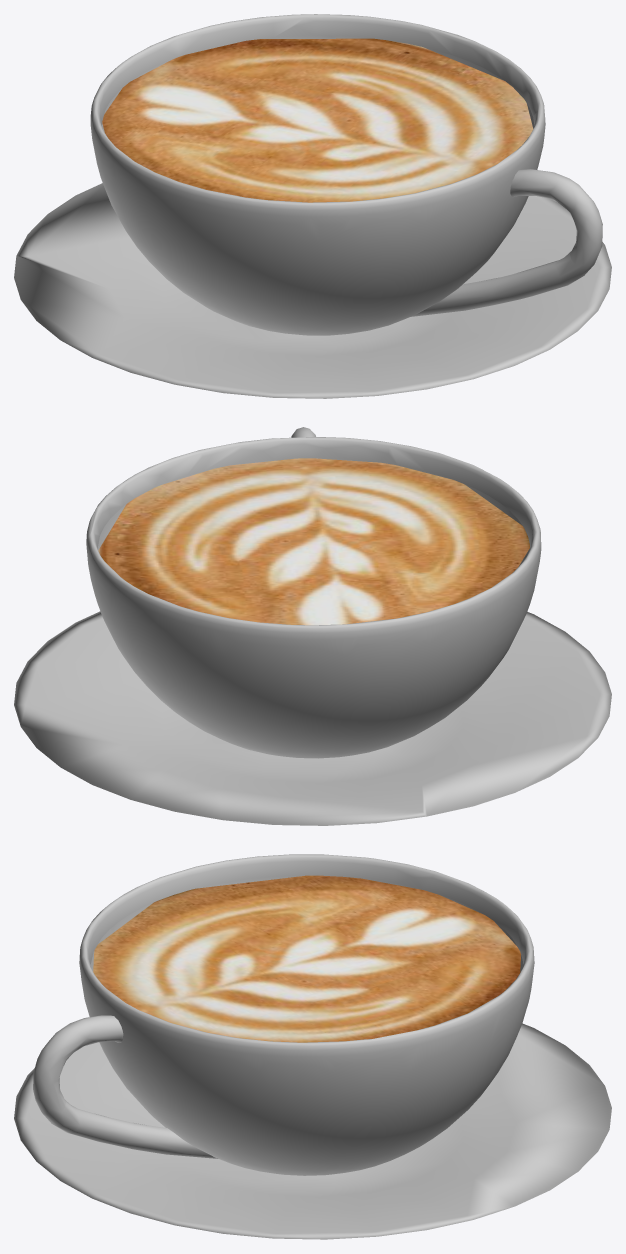
File: food_coffee.glb
3 renders of one model, top to bottom at view 1: azimuth 30°, elevation 25°; view 2: azimuth 150°, elevation 25°; view 3: azimuth 270°, elevation 25°, orthographic.
Visible parts, largest first — view 1: Sphere001, Object001_Material #26_0, Cylinder001, Line001; view 2: Cylinder001, Sphere001, Object001_Material #26_0; view 3: Sphere001, Object001_Material #26_0, Cylinder001, Line001.
Part boxes in pixels (x1,y1,x2,y2): Sphere001: [90, 14, 545, 335]; Object001_Material #26_0: [102, 38, 533, 202]; Cylinder001: [14, 183, 611, 398]; Line001: [411, 169, 602, 316]; Cylinder001: [14, 611, 611, 825]; Sphere001: [86, 436, 541, 758]; Object001_Material #26_0: [98, 458, 529, 625]; Sphere001: [79, 854, 534, 1175]; Object001_Material #26_0: [93, 875, 520, 1042]; Cylinder001: [14, 1023, 611, 1239]; Line001: [33, 1015, 217, 1158].
Size of the model in its own units: 105 by 37.99 by 105.
2 materials, 1 textured.
